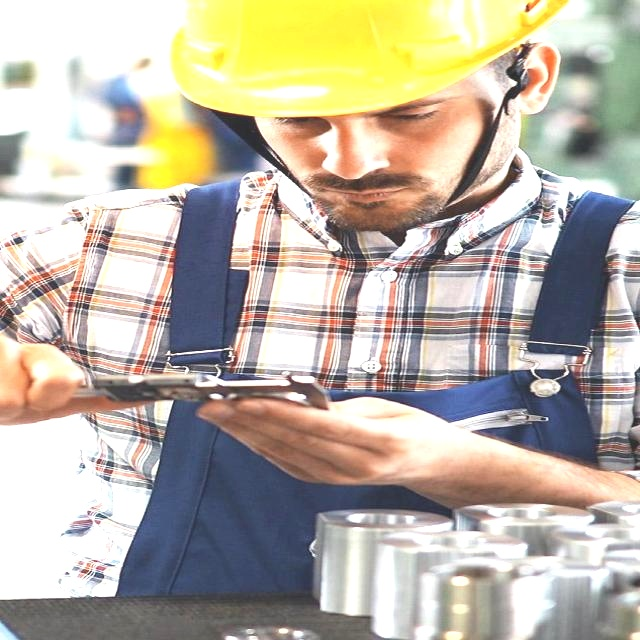Con_Casco: (176, 1, 585, 135)
